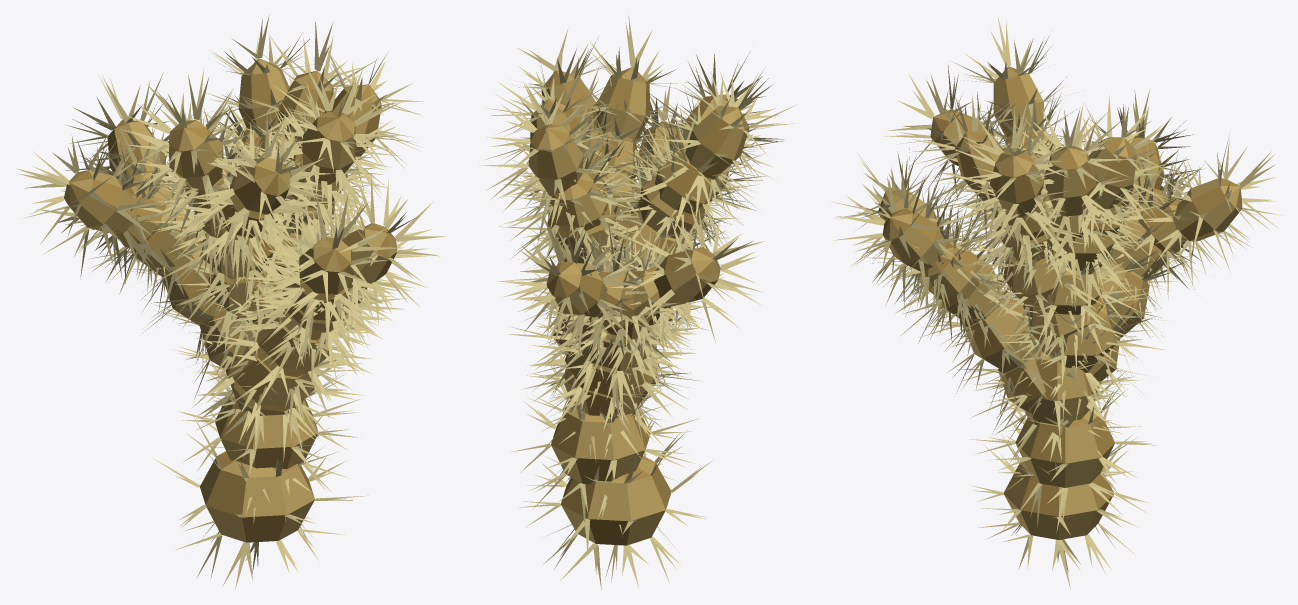
Rendered from cholla.glb.
The picture shows the model from 3 angles, left to right: view 1: azimuth 30°, elevation 25°; view 2: azimuth 150°, elevation 25°; view 3: azimuth 270°, elevation 25°; orthographic projection. The views are drawn at different scales.
Visible parts, largest first — view 1: Trunk, Branch_1, Twig_1_2, Twig_5_2, Twig_2_2, Twig_5_1, Twig_4_2, Branch_2, Branch_5, Twig_1_1, Twig_3_2, Twig_2_1 (+3 smaller); view 2: Trunk, Twig_3_2, Twig_5_1, Twig_2_1, Twig_2_2, Branch_2, Twig_4_2, Branch_5, Twig_3_1, Branch_3, Twig_4_1, Twig_5_2 (+4 smaller); view 3: Trunk, Twig_1_1, Branch_1, Branch_3, Twig_4_1, Twig_2_1, Twig_3_1, Branch_4, Twig_3_2, Branch_2, Twig_5_1, Twig_4_2 (+3 smaller).
Boxes of the visible parts, x1,y1,x2,y2 form: Trunk: (153, 323, 368, 589); Branch_1: (195, 210, 395, 454); Twig_1_2: (238, 190, 405, 378); Twig_5_2: (166, 113, 336, 292); Twig_2_2: (15, 133, 196, 300); Twig_5_1: (121, 69, 286, 276); Twig_4_2: (244, 62, 402, 248); Branch_2: (88, 151, 278, 430); Branch_5: (145, 125, 307, 357); Twig_1_1: (251, 174, 446, 363); Twig_3_2: (202, 15, 314, 166); Twig_2_1: (65, 72, 201, 292); Trunk: (510, 308, 712, 589); Twig_3_2: (479, 83, 642, 264); Twig_5_1: (613, 69, 797, 252); Twig_2_1: (497, 213, 693, 368); Twig_2_2: (565, 196, 763, 372); Branch_2: (527, 225, 698, 437); Twig_4_2: (576, 15, 688, 220); Branch_5: (535, 125, 757, 379); Twig_3_1: (485, 55, 642, 261); Branch_3: (498, 144, 671, 412); Twig_4_1: (504, 28, 661, 208); Twig_5_2: (626, 52, 784, 247); Trunk: (969, 303, 1155, 588); Twig_1_1: (832, 167, 1021, 346); Branch_1: (893, 208, 1128, 443); Branch_3: (994, 179, 1164, 417); Twig_4_1: (943, 101, 1085, 286); Twig_2_1: (1114, 134, 1280, 302); Twig_3_1: (1012, 103, 1142, 296); Branch_4: (957, 154, 1151, 392); Twig_3_2: (1042, 95, 1171, 290); Branch_2: (1013, 161, 1195, 422); Twig_5_1: (951, 16, 1076, 163); Twig_4_2: (909, 95, 1064, 274).
Size of the model in its own units: 1.41 by 2.2 by 1.81.
